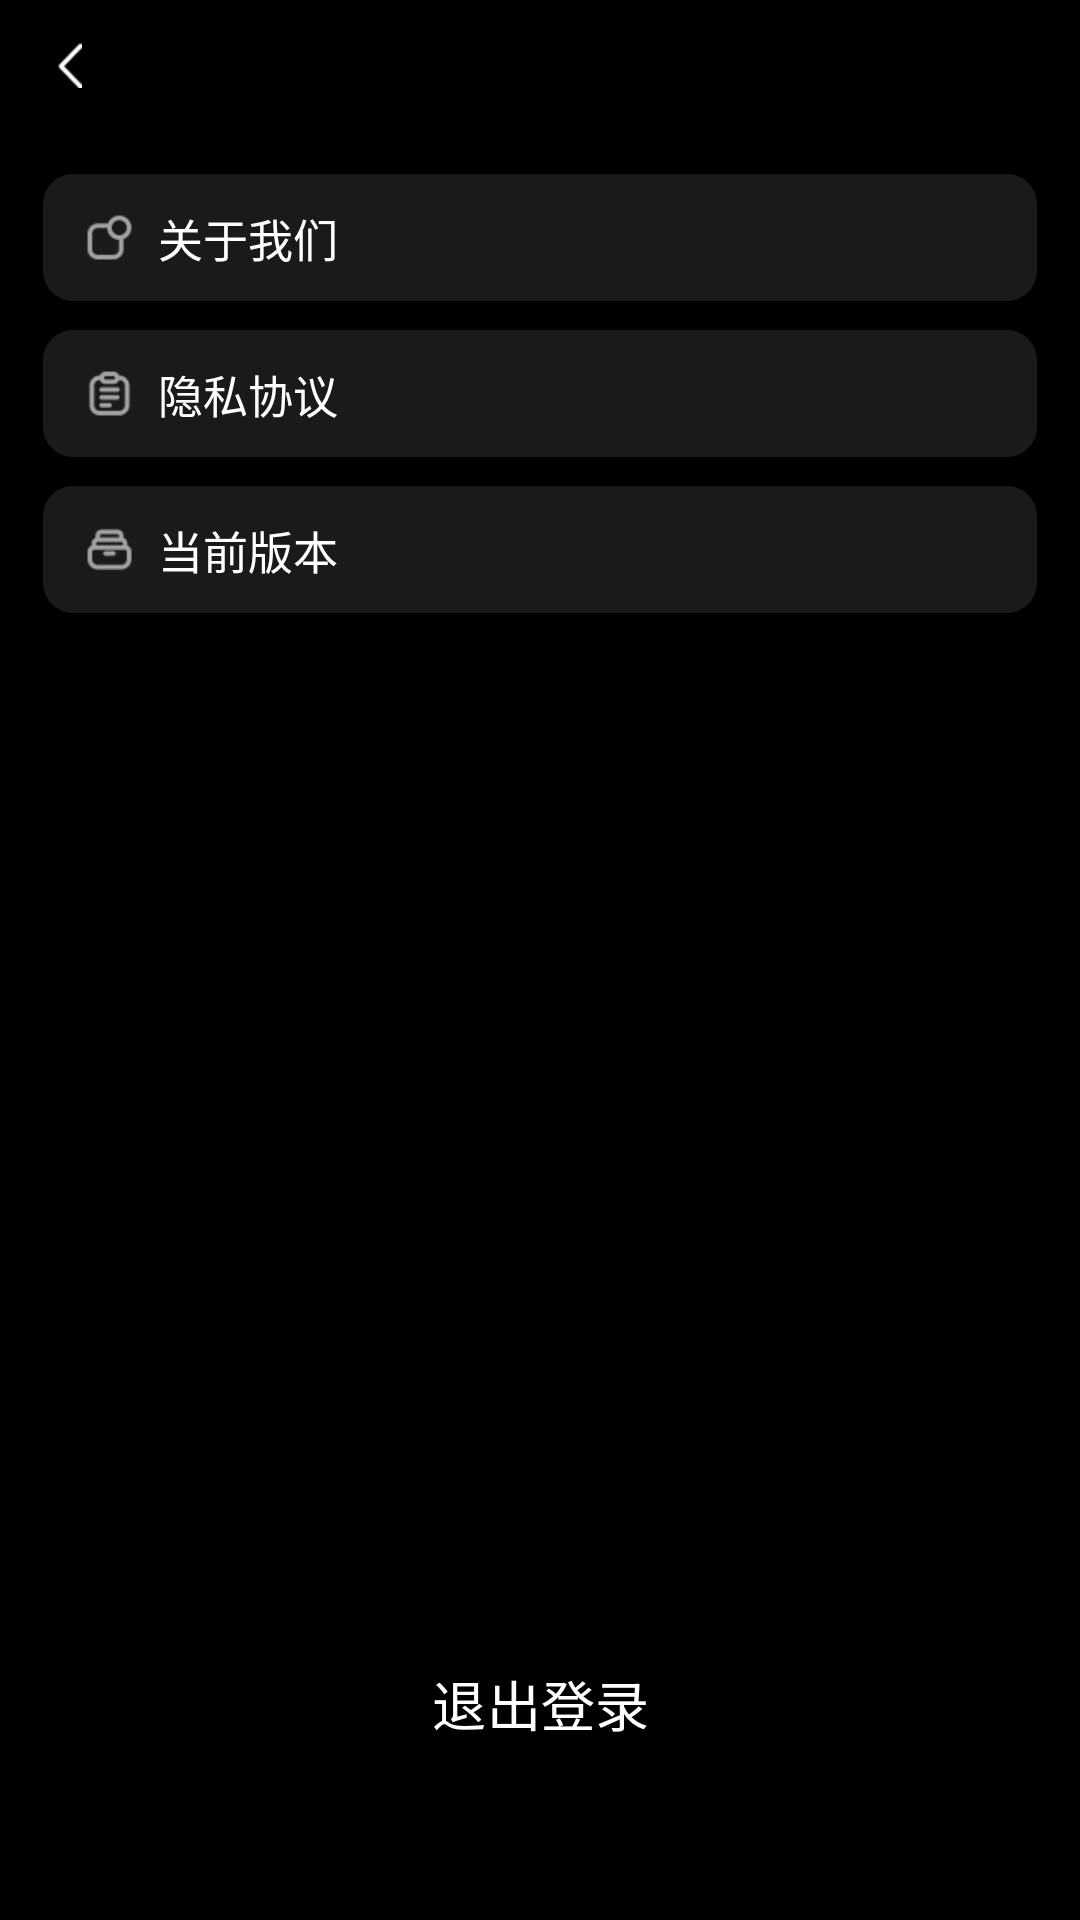

Icon click points for this 1080*1920 phone screenshot, format [x,y]:
back: [70,65]
privacy: [109,393]
version: [109,549]
